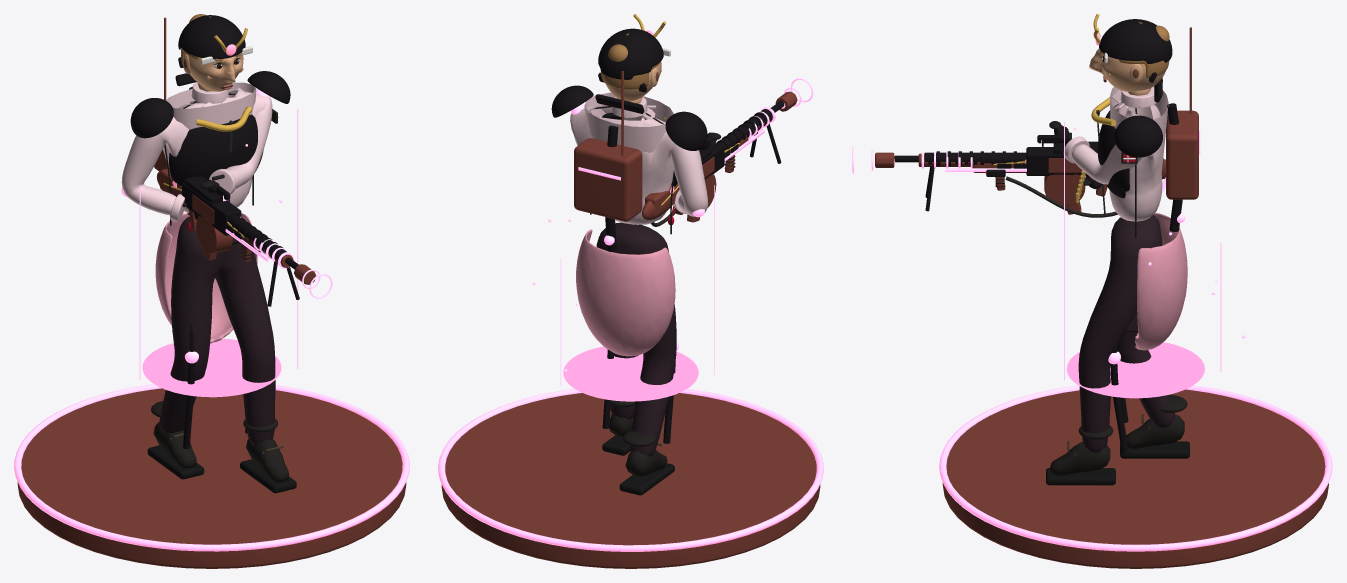
The model's file is garder_sakura.glb.
3 renders of one model, left to right at view 1: azimuth 30°, elevation 25°; view 2: azimuth 150°, elevation 25°; view 3: azimuth 270°, elevation 25°, orthographic. The views are drawn at different scales.
Visible parts, largest first — view 1: fod_net, menneske_net, op2.001_net, op4_net, hoved_net, vaaben_net, op4.001_net, op3_net, op4.002_net; view 2: fod_net, menneske_net, op3.001_net, op4_net, hoved_net, vaaben_net, op2.001_net, op4.001_net, op4.002_net, op3_net; view 3: fod_net, menneske_net, hoved_net, op4_net, vaaben_net, op3.001_net, op2.001_net, op4.001_net, op3_net, op1_net, op4.002_net.
Part boxes in pixels (x1,y1,x2,y2): fod_net: (14,384,409,568); menneske_net: (121,82,296,493); op2.001_net: (130,71,290,185); op4_net: (139,109,298,397); hoved_net: (175,14,252,91); vaaben_net: (157,168,299,306); op4.001_net: (121,87,270,449); op3_net: (192,194,316,284); op4.002_net: (225,229,332,298); fod_net: (438,389,823,568); menneske_net: (570,92,721,495); op3.001_net: (574,71,642,221); op4_net: (532,185,714,401); hoved_net: (595,14,670,113); vaaben_net: (642,101,784,219); op2.001_net: (551,85,707,186); op4.001_net: (571,103,704,443); op4.002_net: (724,78,813,161); op3_net: (702,91,797,177); fod_net: (939,385,1332,568); menneske_net: (1046,86,1189,485); hoved_net: (1089,14,1172,102); op4_net: (1064,122,1245,398); vaaben_net: (894,135,1165,211); op3.001_net: (1166,27,1200,199); op2.001_net: (1091,80,1162,198); op4.001_net: (1108,103,1185,453); op3_net: (875,152,1082,172); op1_net: (997,163,1117,217); op4.002_net: (852,147,1165,192).
Size of the model in its own units: 1.94 by 2.54 by 2.36.
